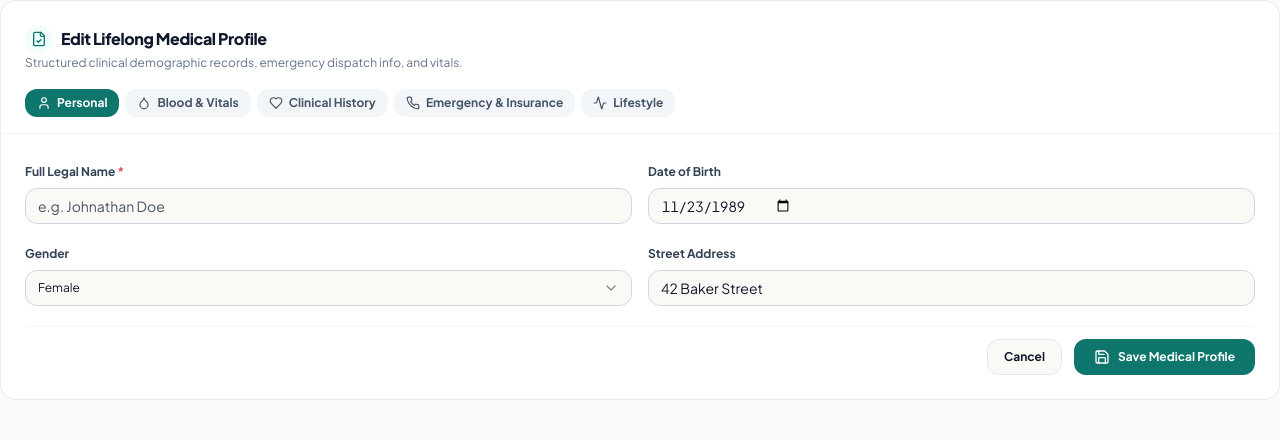
Test: Comprehensive Patient Profile UX/UI Refinement Suite › 3. Form Validation, Repeatable Contacts & Edit Workflow › displays field-level validation when full legal name is empty
Click the button "Save Medical Profile".
click(1164, 357)  # box [1074,339,1255,375]
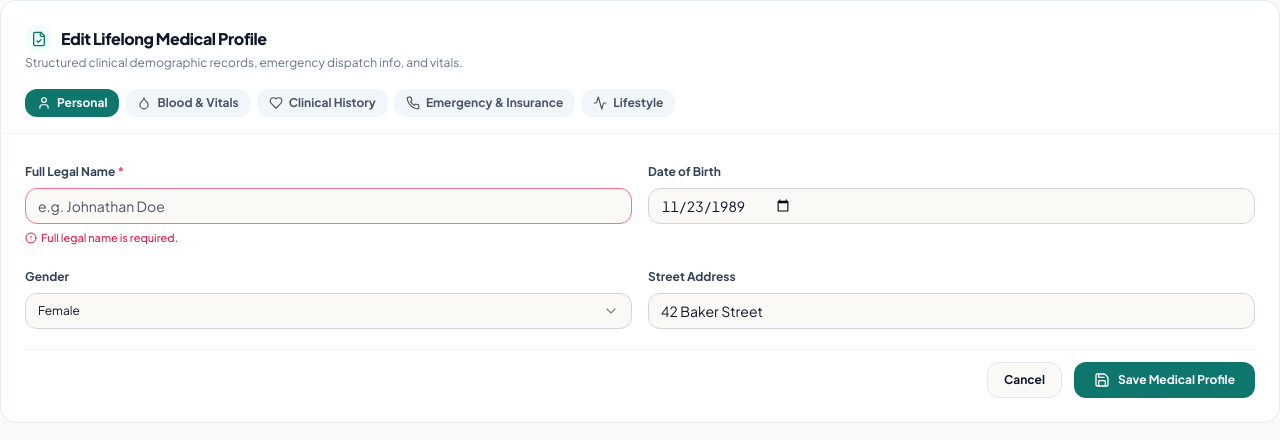
expect the text "Full legal name is required." is shown: met, box [25,231,178,244]
